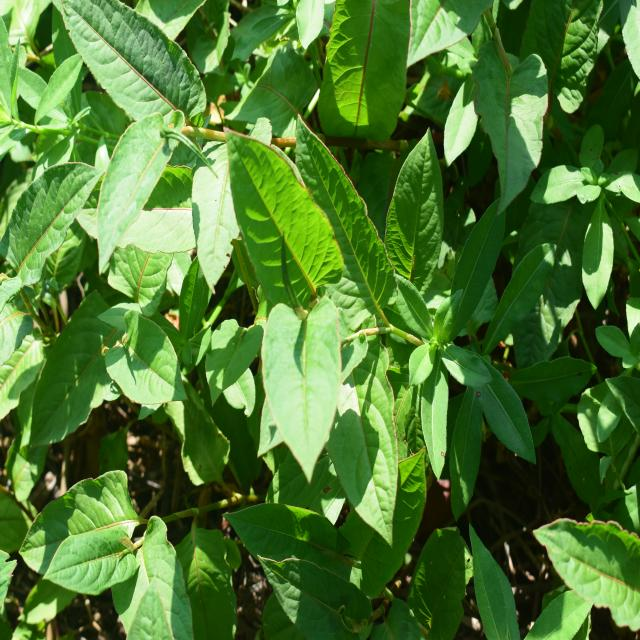Chinese_knotweed: (231, 120, 411, 538), (58, 0, 194, 252)
